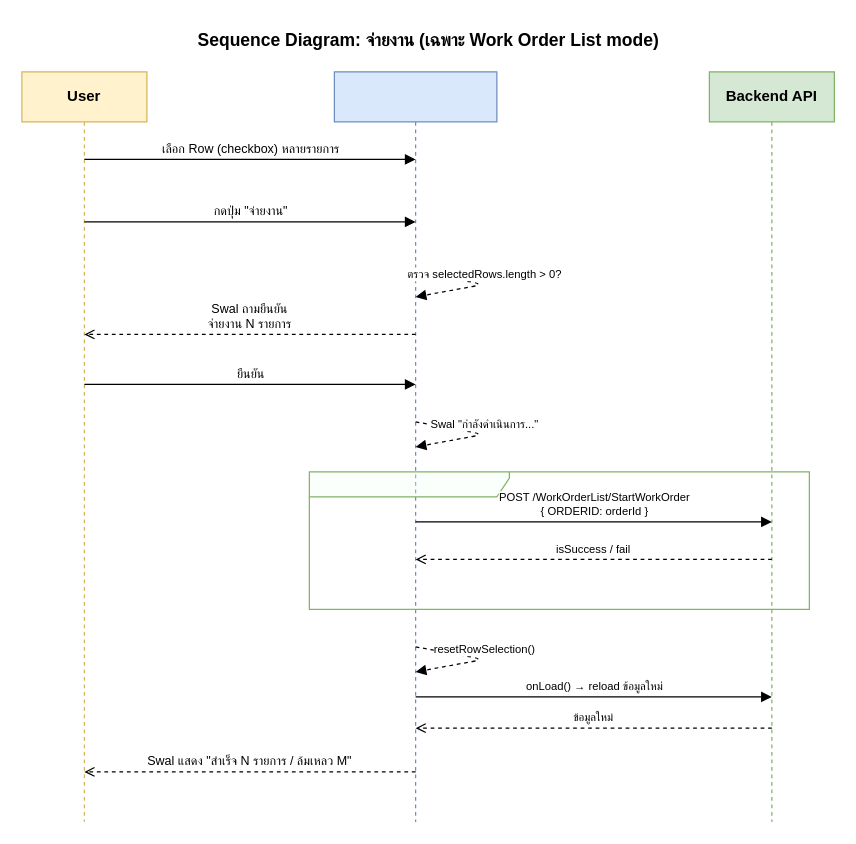
Image size: 856x844. Some labels were removed from this diagram. Here are the shapes that lost their labels. From the top down, the box of each, then its label:
(333, 71, 497, 822): DashboardRefurbish (UI)
(308, 471, 809, 609): loop [แต่ละ selectedRow]
